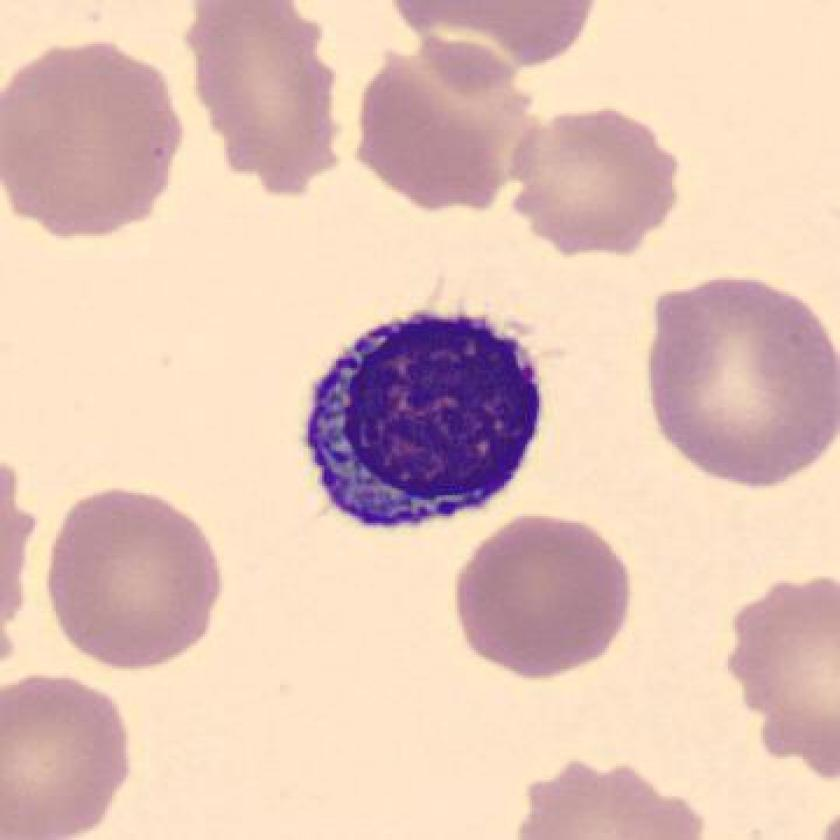lymphocyte: (290, 288, 559, 552)
